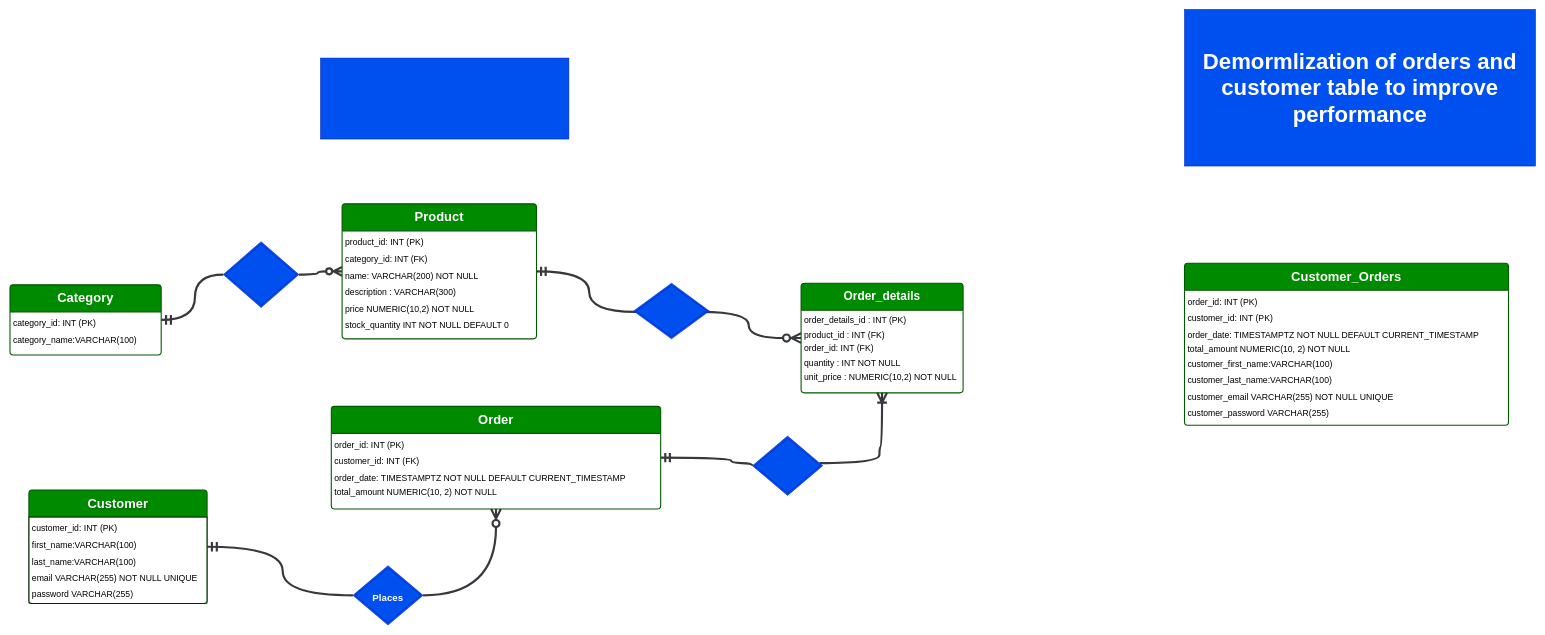
Some shapes in this 1545 by 635 pixel diagram are drawn without their labels. Each missing label, with the centre of its shape:
"Appears In" belongs at [671,311].
"Classifies" belongs at [261,274].
"Contains" belongs at [787,465].
"E-commerce ERD" belongs at [444,98].
